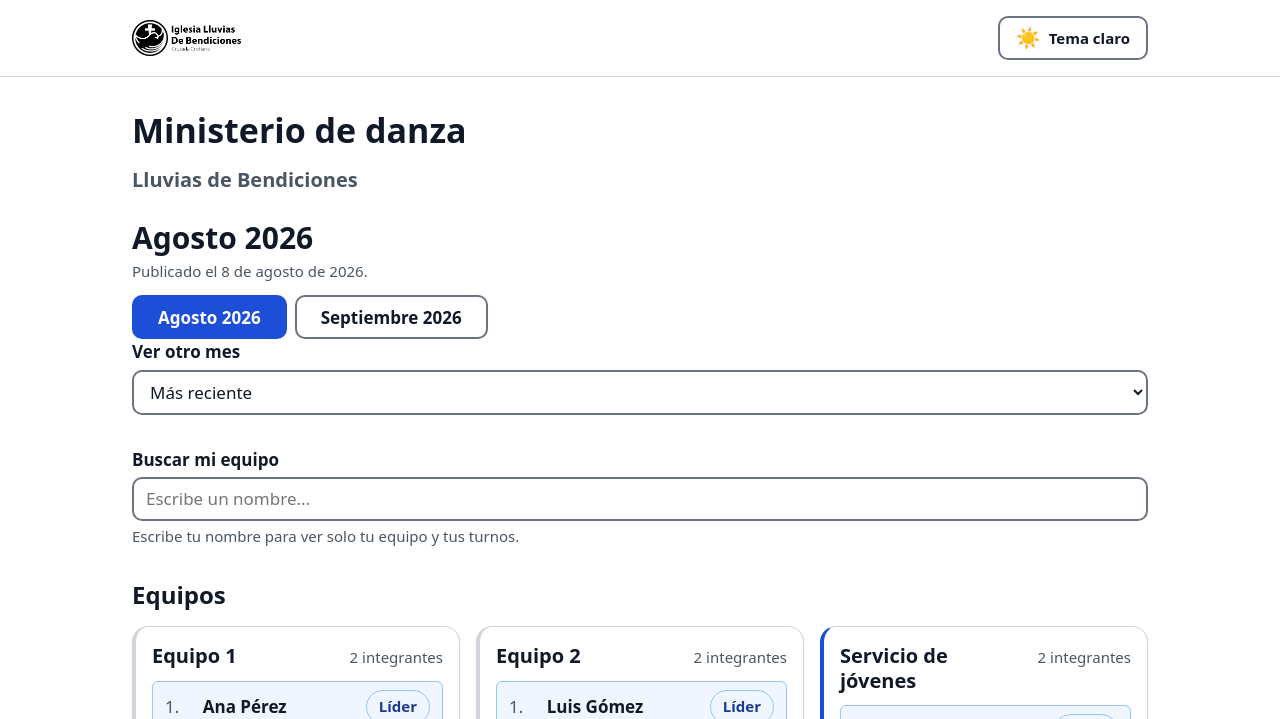
PublicSchedule (ruta pública, sin login) › muestra tabs de mes actual/siguiente cuando el mes siguiente ya está publicado (adelanto de últimos 8 días) y permite cambiar entre ambos
Check: the heading "Agosto 2026" is shown, box [132,216,313,258]
Click the button "Septiembre 2026" at (391, 317), box [295,295,488,339]
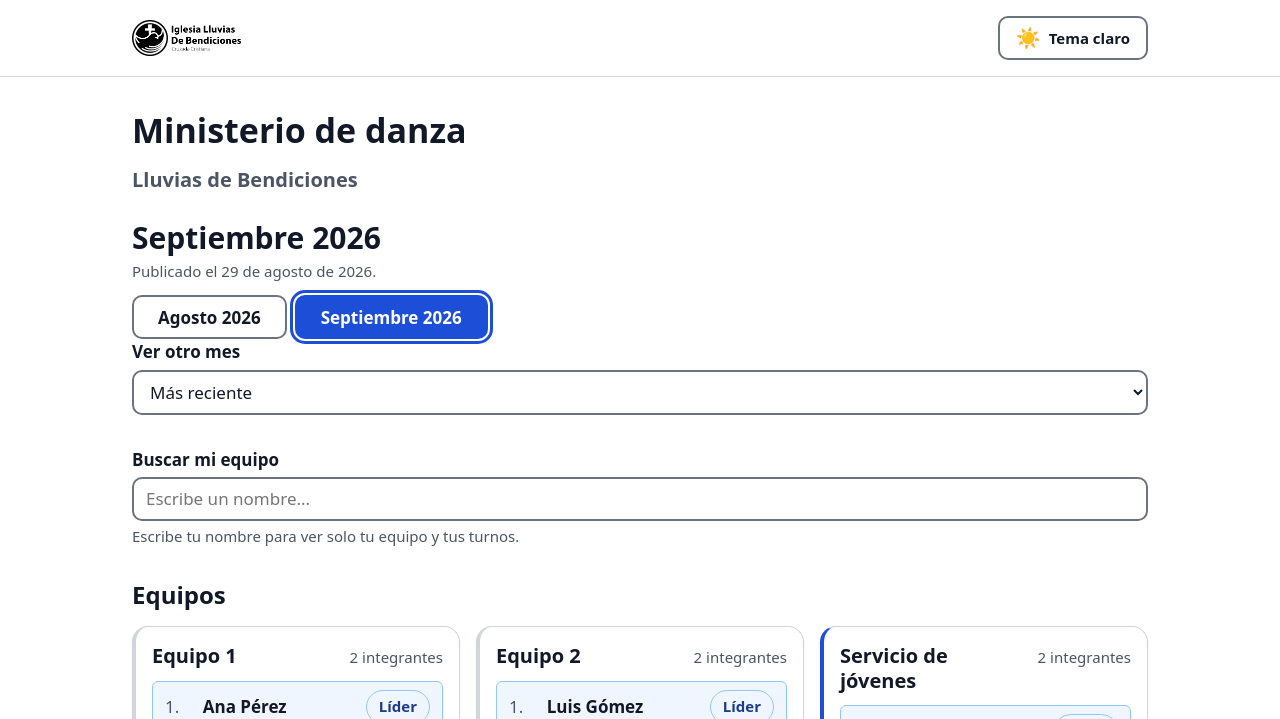
Check: the heading "Septiembre 2026" is shown, box [132,216,381,258]
